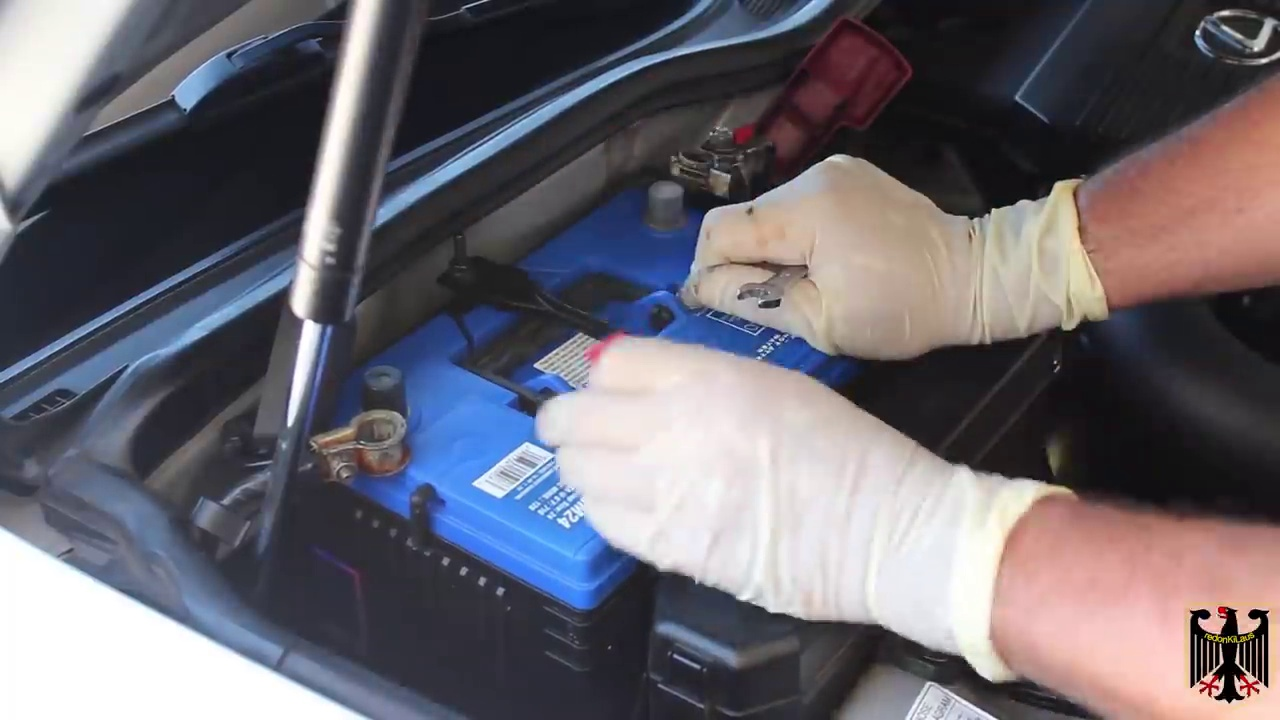battery: (275, 167, 892, 552)
pos_disconnected: (634, 55, 850, 234)
pos_touched: (642, 110, 865, 331)
